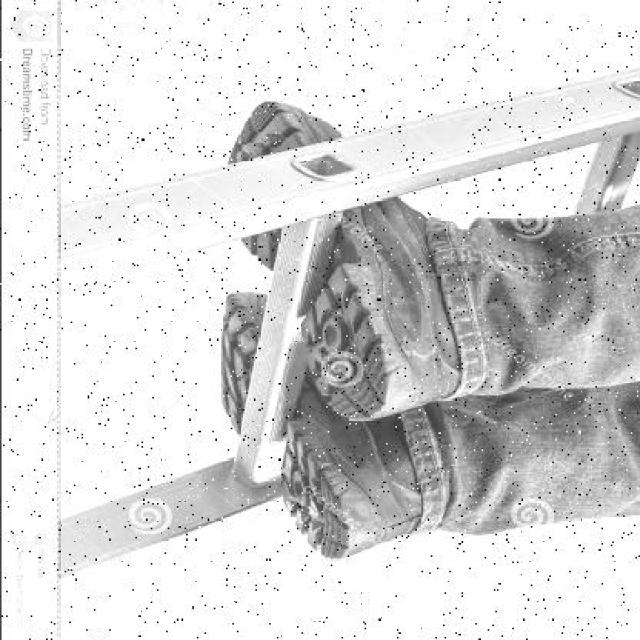shoes: (231, 109, 451, 400), (215, 316, 399, 546)
